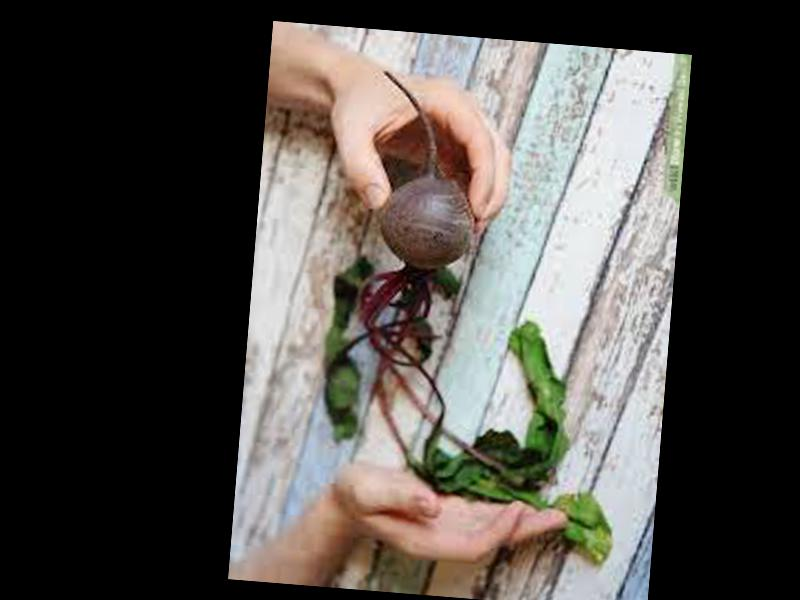Beet: (311, 68, 647, 564)
